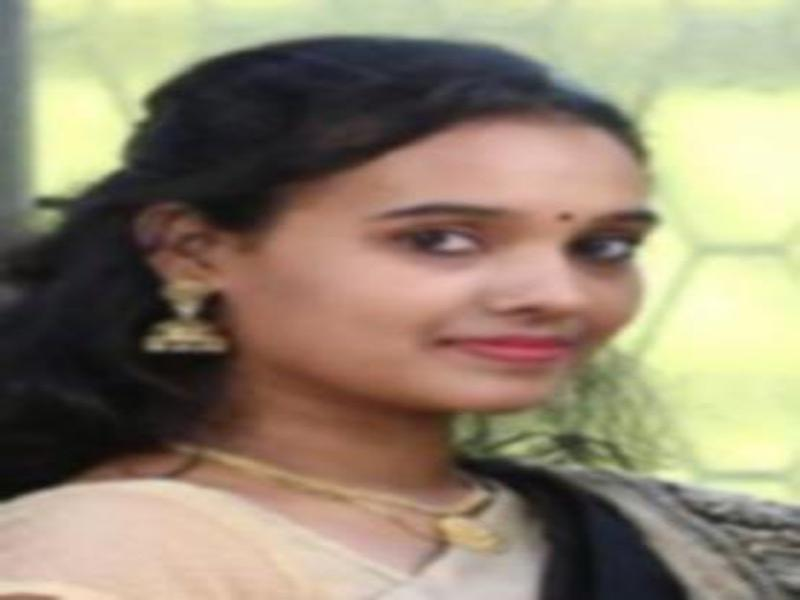without_mask: (232, 146, 651, 419)
